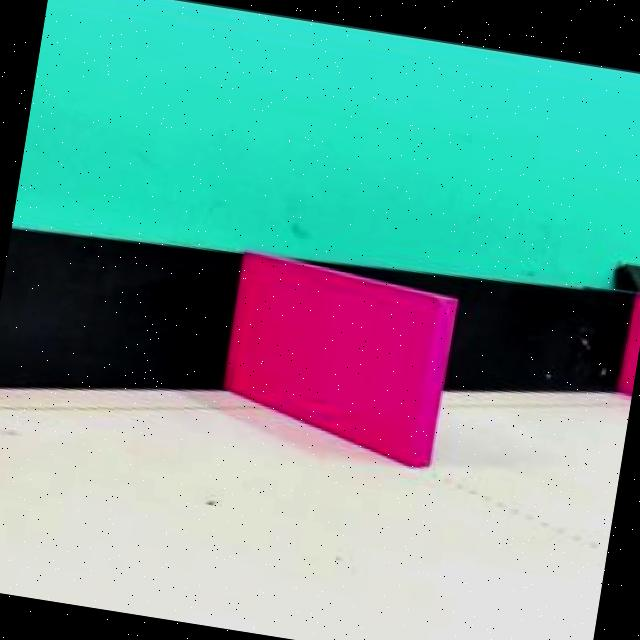xparking: (228, 277, 452, 454), (624, 298, 640, 398)
